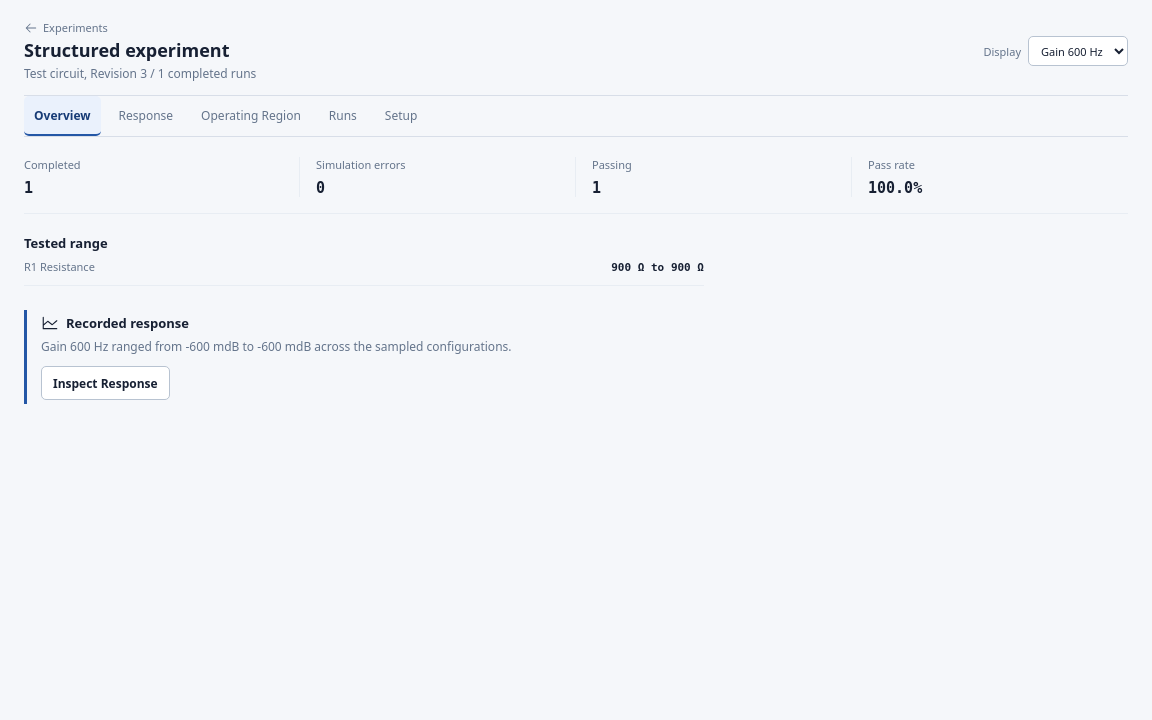
shared workbench panels › renders Setup for persisted structured experiment measurements
What coordinates should you click on to do the following:
click the tab "Setup"
I would click on:
 (401, 116)
Its box is [375,96,427,136].
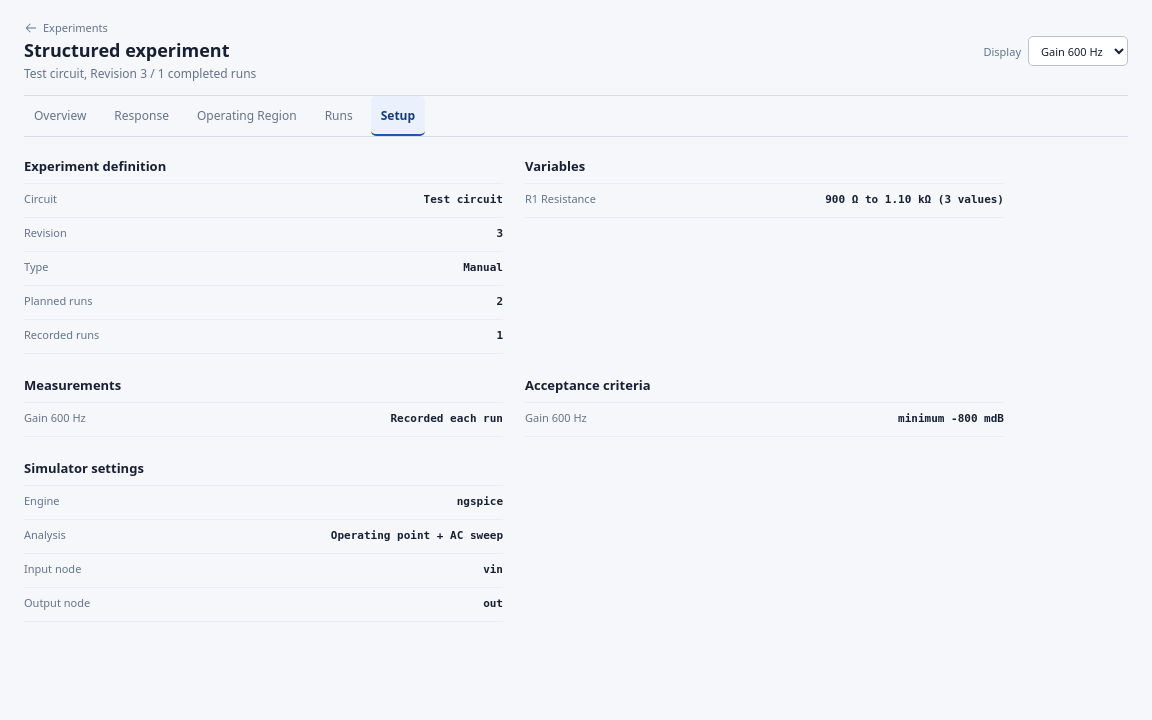
Expected: the text "900 Ω to 1.10 kΩ (3 values)" is shown, [825,193,1004,206]
Expected: the text "Operating point + AC sweep" is shown, [331,529,503,542]
What coordinates should you click on to do the following:
click the tab "Runs"
I would click on:
 (339, 116)
Its box is [315,96,363,136].
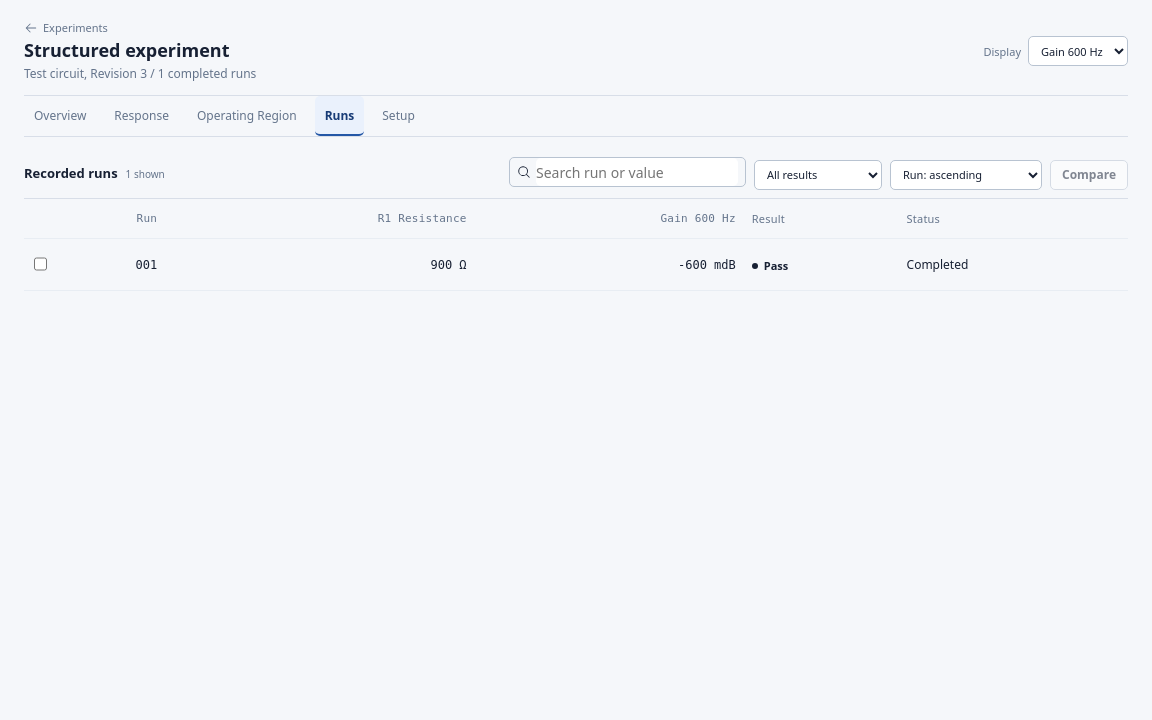
What coordinates should you click on to do the following:
click the text "001"
I would click on:
 (110, 264)
Its box is [54,238,165,290].
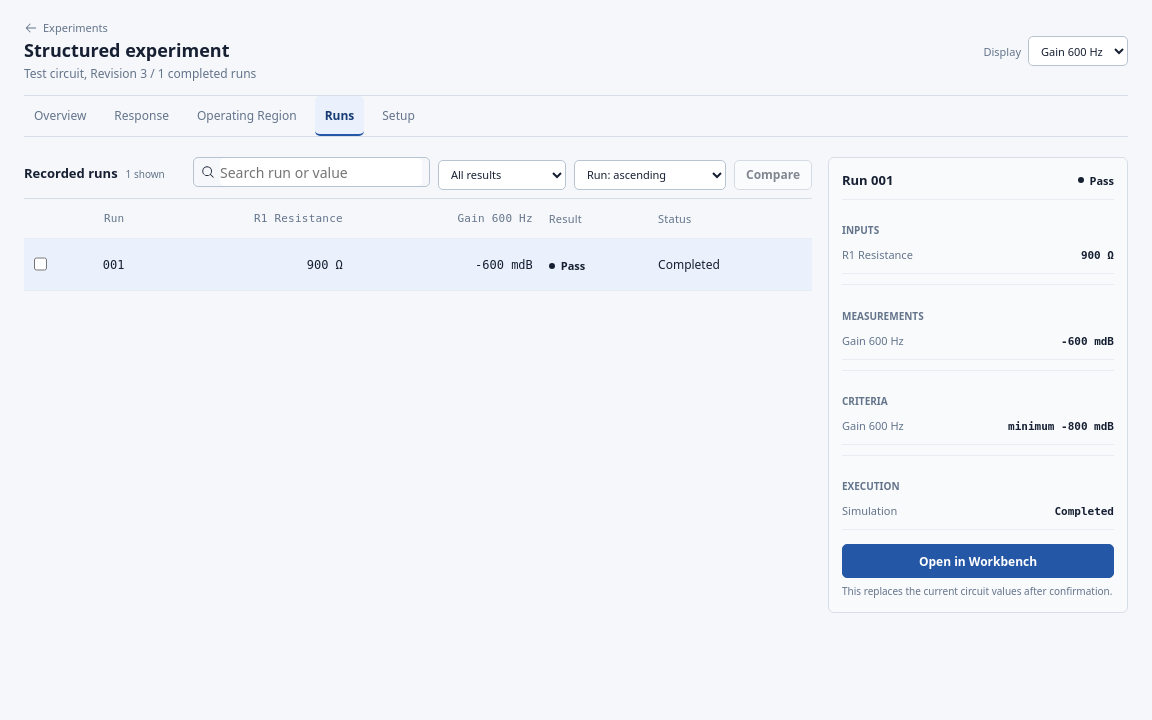
Expected: the heading "Run 001" is shown, [842,171,893,189]
